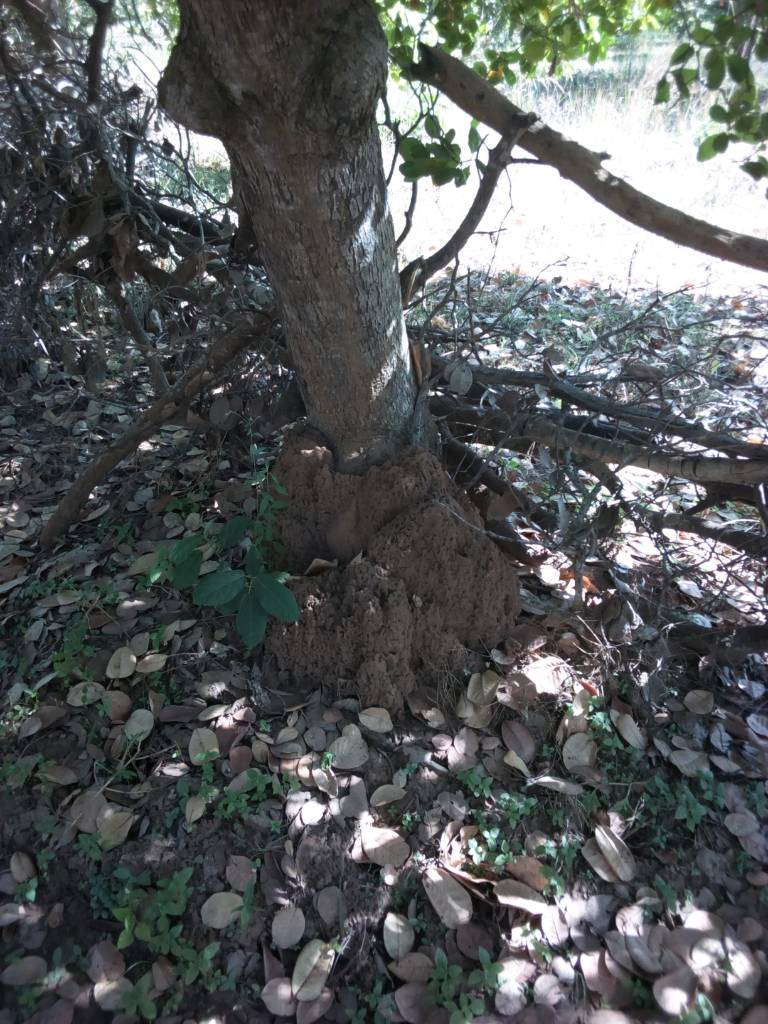Termites: (310, 471, 504, 699)
